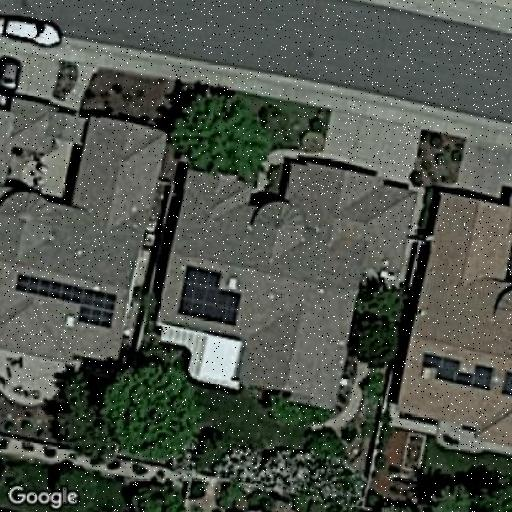solar-panel: (12, 272, 118, 332), (174, 264, 244, 328), (421, 350, 512, 394)
